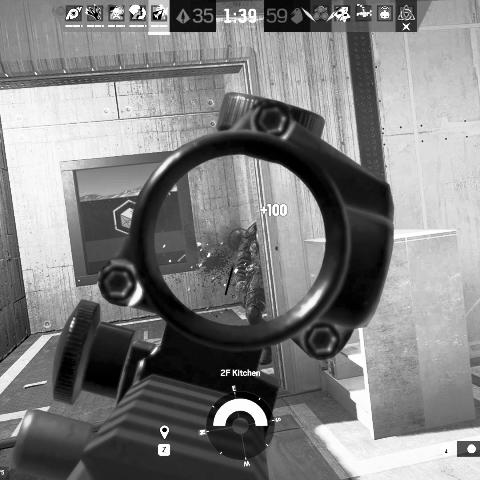Character: (234, 220, 273, 366)
